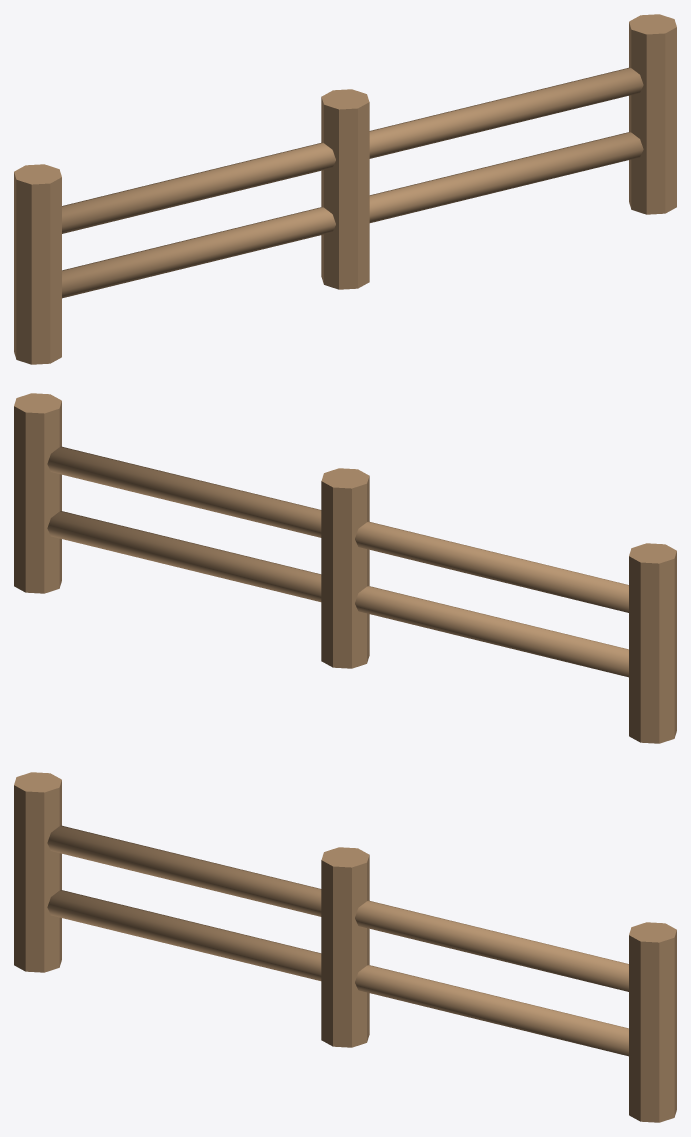
The model's file is Deco_WoodFence.fbx.
3 renders of one model, top to bottom at view 1: azimuth 30°, elevation 25°; view 2: azimuth 150°, elevation 25°; view 3: azimuth 330°, elevation 25°, orthographic.
Visible parts, largest first — view 1: Deco_WoodFence; view 2: Deco_WoodFence; view 3: Deco_WoodFence.
Boxes of the visible parts, x1,y1,x2,y2 form: Deco_WoodFence: (14, 14, 676, 364); Deco_WoodFence: (14, 393, 676, 743); Deco_WoodFence: (14, 772, 676, 1122).
Bounding box in the file's own units: 1.07 × 0.28 × 0.07.
